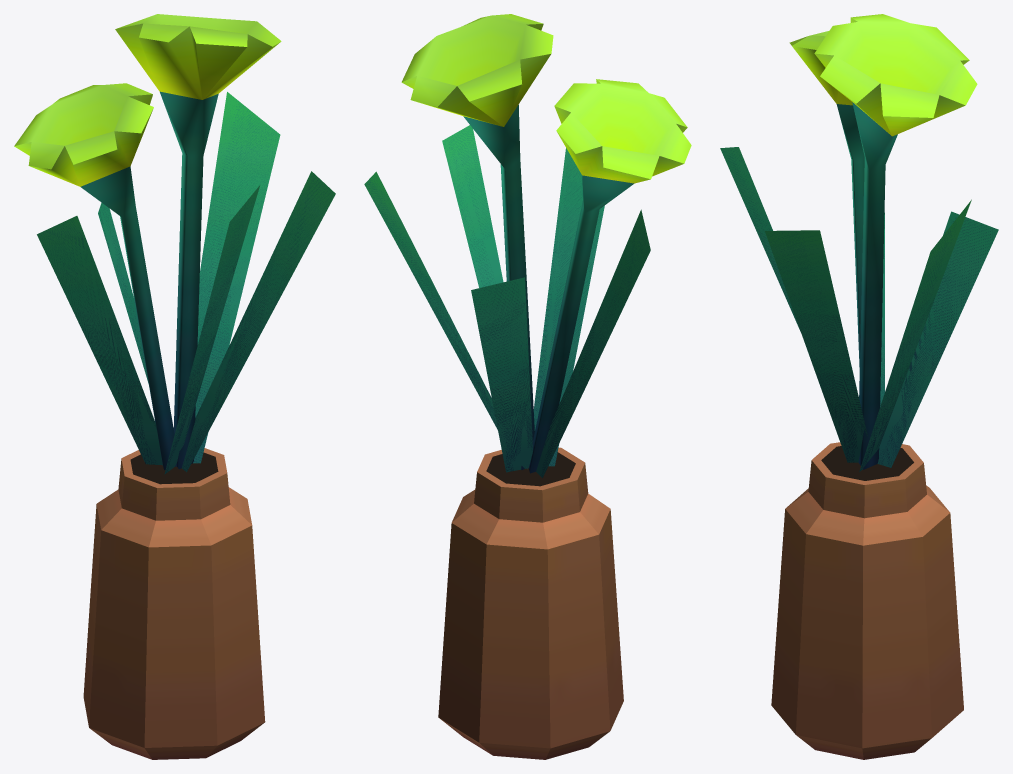
File: Plant_Vase_03.fbx
The picture shows the model from 3 angles, left to right: view 1: azimuth 30°, elevation 25°; view 2: azimuth 150°, elevation 25°; view 3: azimuth 270°, elevation 25°; orthographic projection.
Parts seen in each view (by area): view 1: Plant_Vase_03; view 2: Plant_Vase_03; view 3: Plant_Vase_03.
Boxes of the visible parts, x1,y1,x2,y2 form: Plant_Vase_03: (14,14,335,759); Plant_Vase_03: (364,14,691,759); Plant_Vase_03: (720,14,998,759).
Bounding box in the file's own units: 34.81 × 81.82 × 28.99.
1 material, 1 textured.
